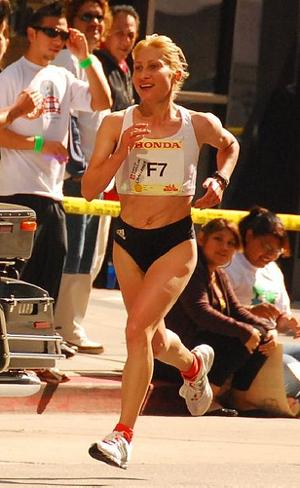person: (81, 34, 242, 471)
